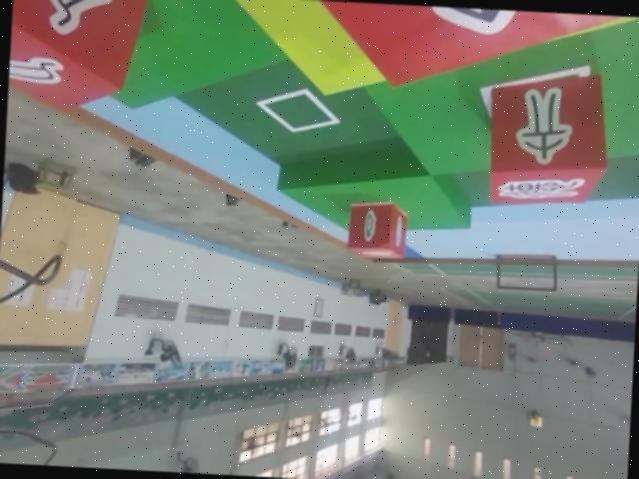R2 Fake: (483, 64, 610, 211)
R2 Real: (6, 0, 147, 116), (343, 197, 408, 261)
